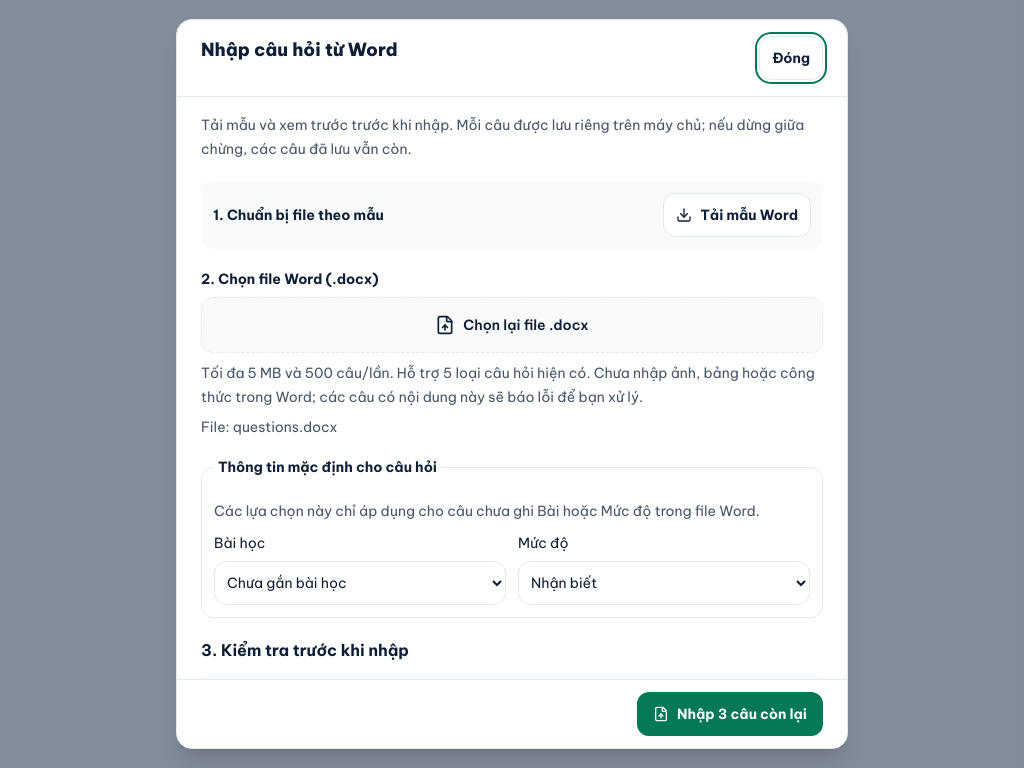
Scenario: Question Word import confirmation › shows confirmed, uncertain and unsent counts after HTTP 500 without allowing retry
Earlier steps of the test are not shown.
Later steps or results of the test are not shown.
What coordinates should you click on to do the following:
click the button "Nhập 3 câu còn lại"
I would click on:
 (730, 714)
Its box is [637, 692, 823, 736].
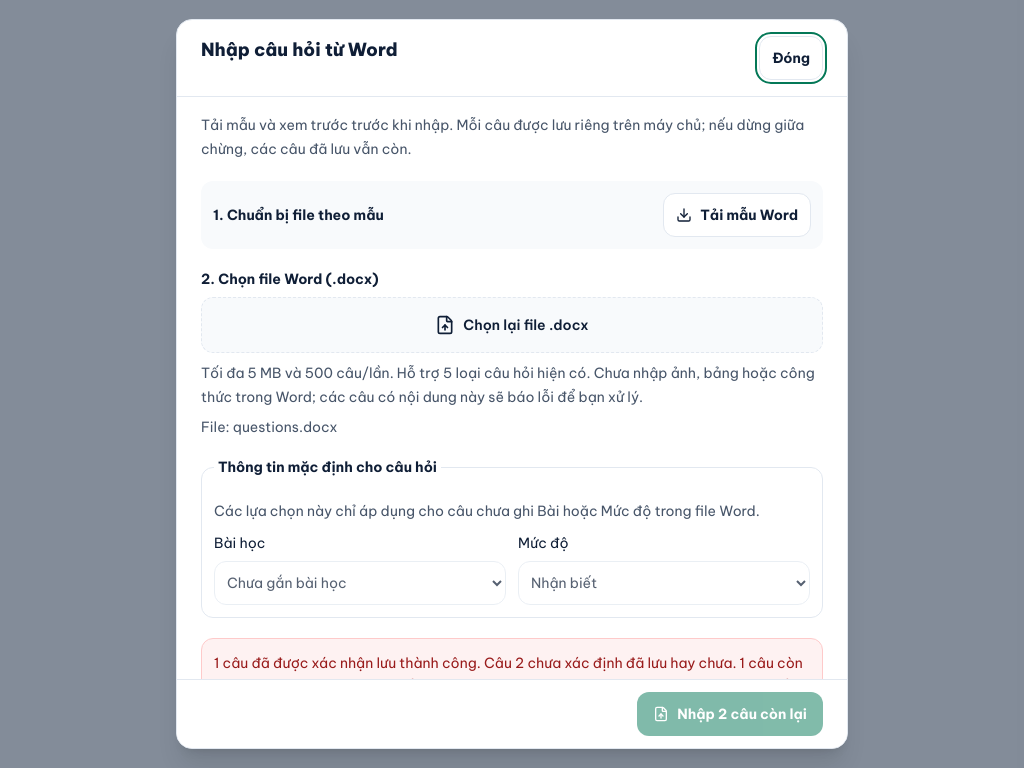
Expected: the file field labelled "2. Chọn file Word (.docx) Chọn lại file .docx" is disabled, [201, 269, 823, 353]
Result: the button "Nhập 2 câu còn lại" is disabled at [637, 692, 823, 736]
